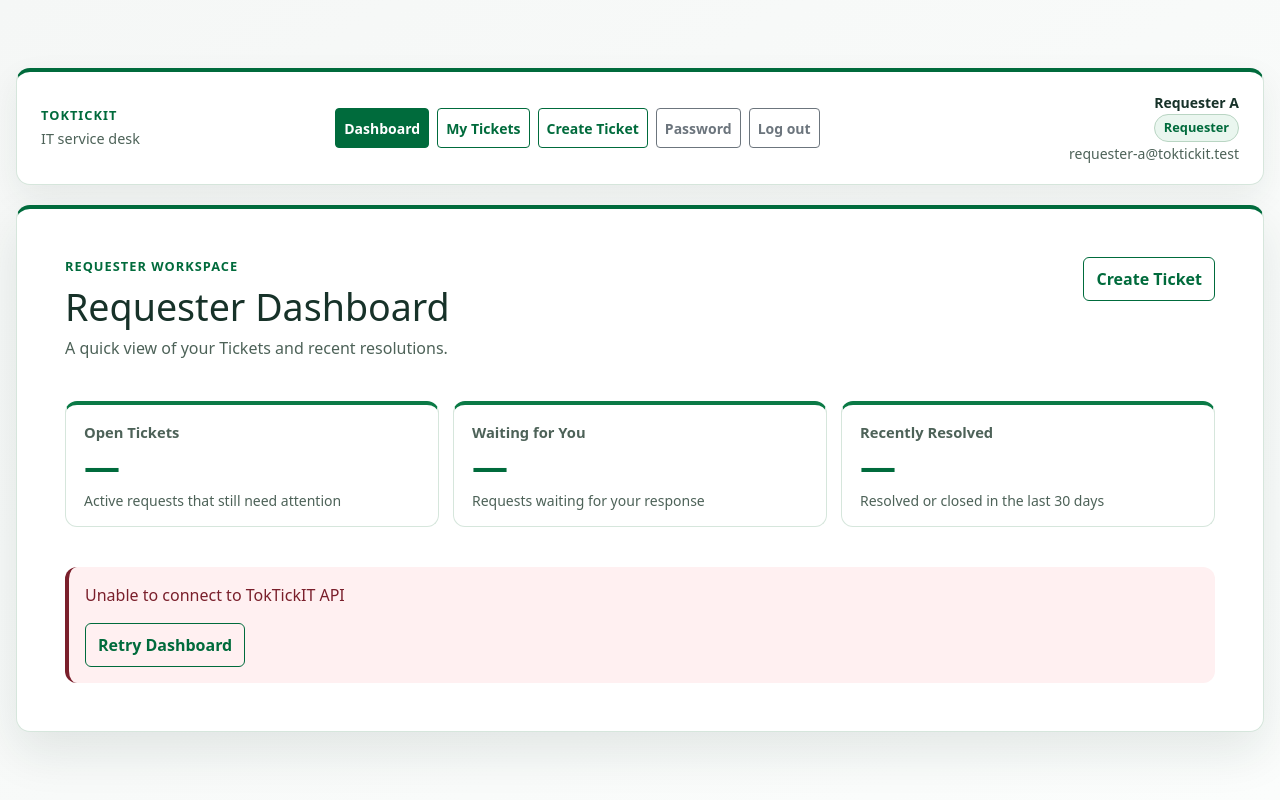
Test: Lab 4 Requester Dashboard › explains API failures and retries without showing stale metrics
Expected: the message shows "Unable to connect to TokTickIT API", [85,584,345,606]
Expected: the text "—" is shown 3 times, [84,442,120,491]; [472,442,508,491]; [860,442,896,491]
Click the button "Retry Dashboard": {"x": 165, "y": 645} [85,623,245,667]
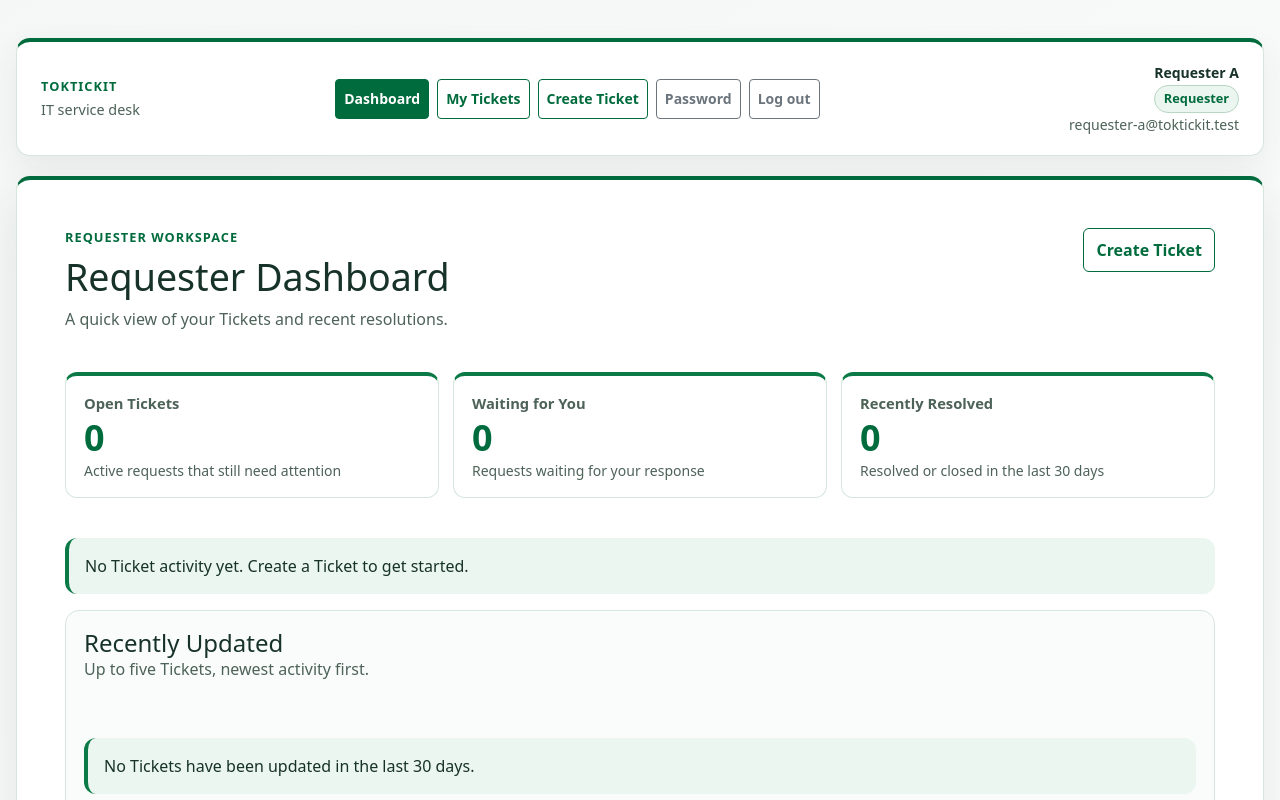
Expected: the text "0" is shown 3 times, [84,413,105,462]; [472,413,493,462]; [860,413,881,462]
Now the text "No Ticket activity yet. Create a Ticket to get started." is shown, box [65,538,1215,594]
